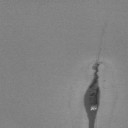slag inclusion: (84, 63, 100, 128)
